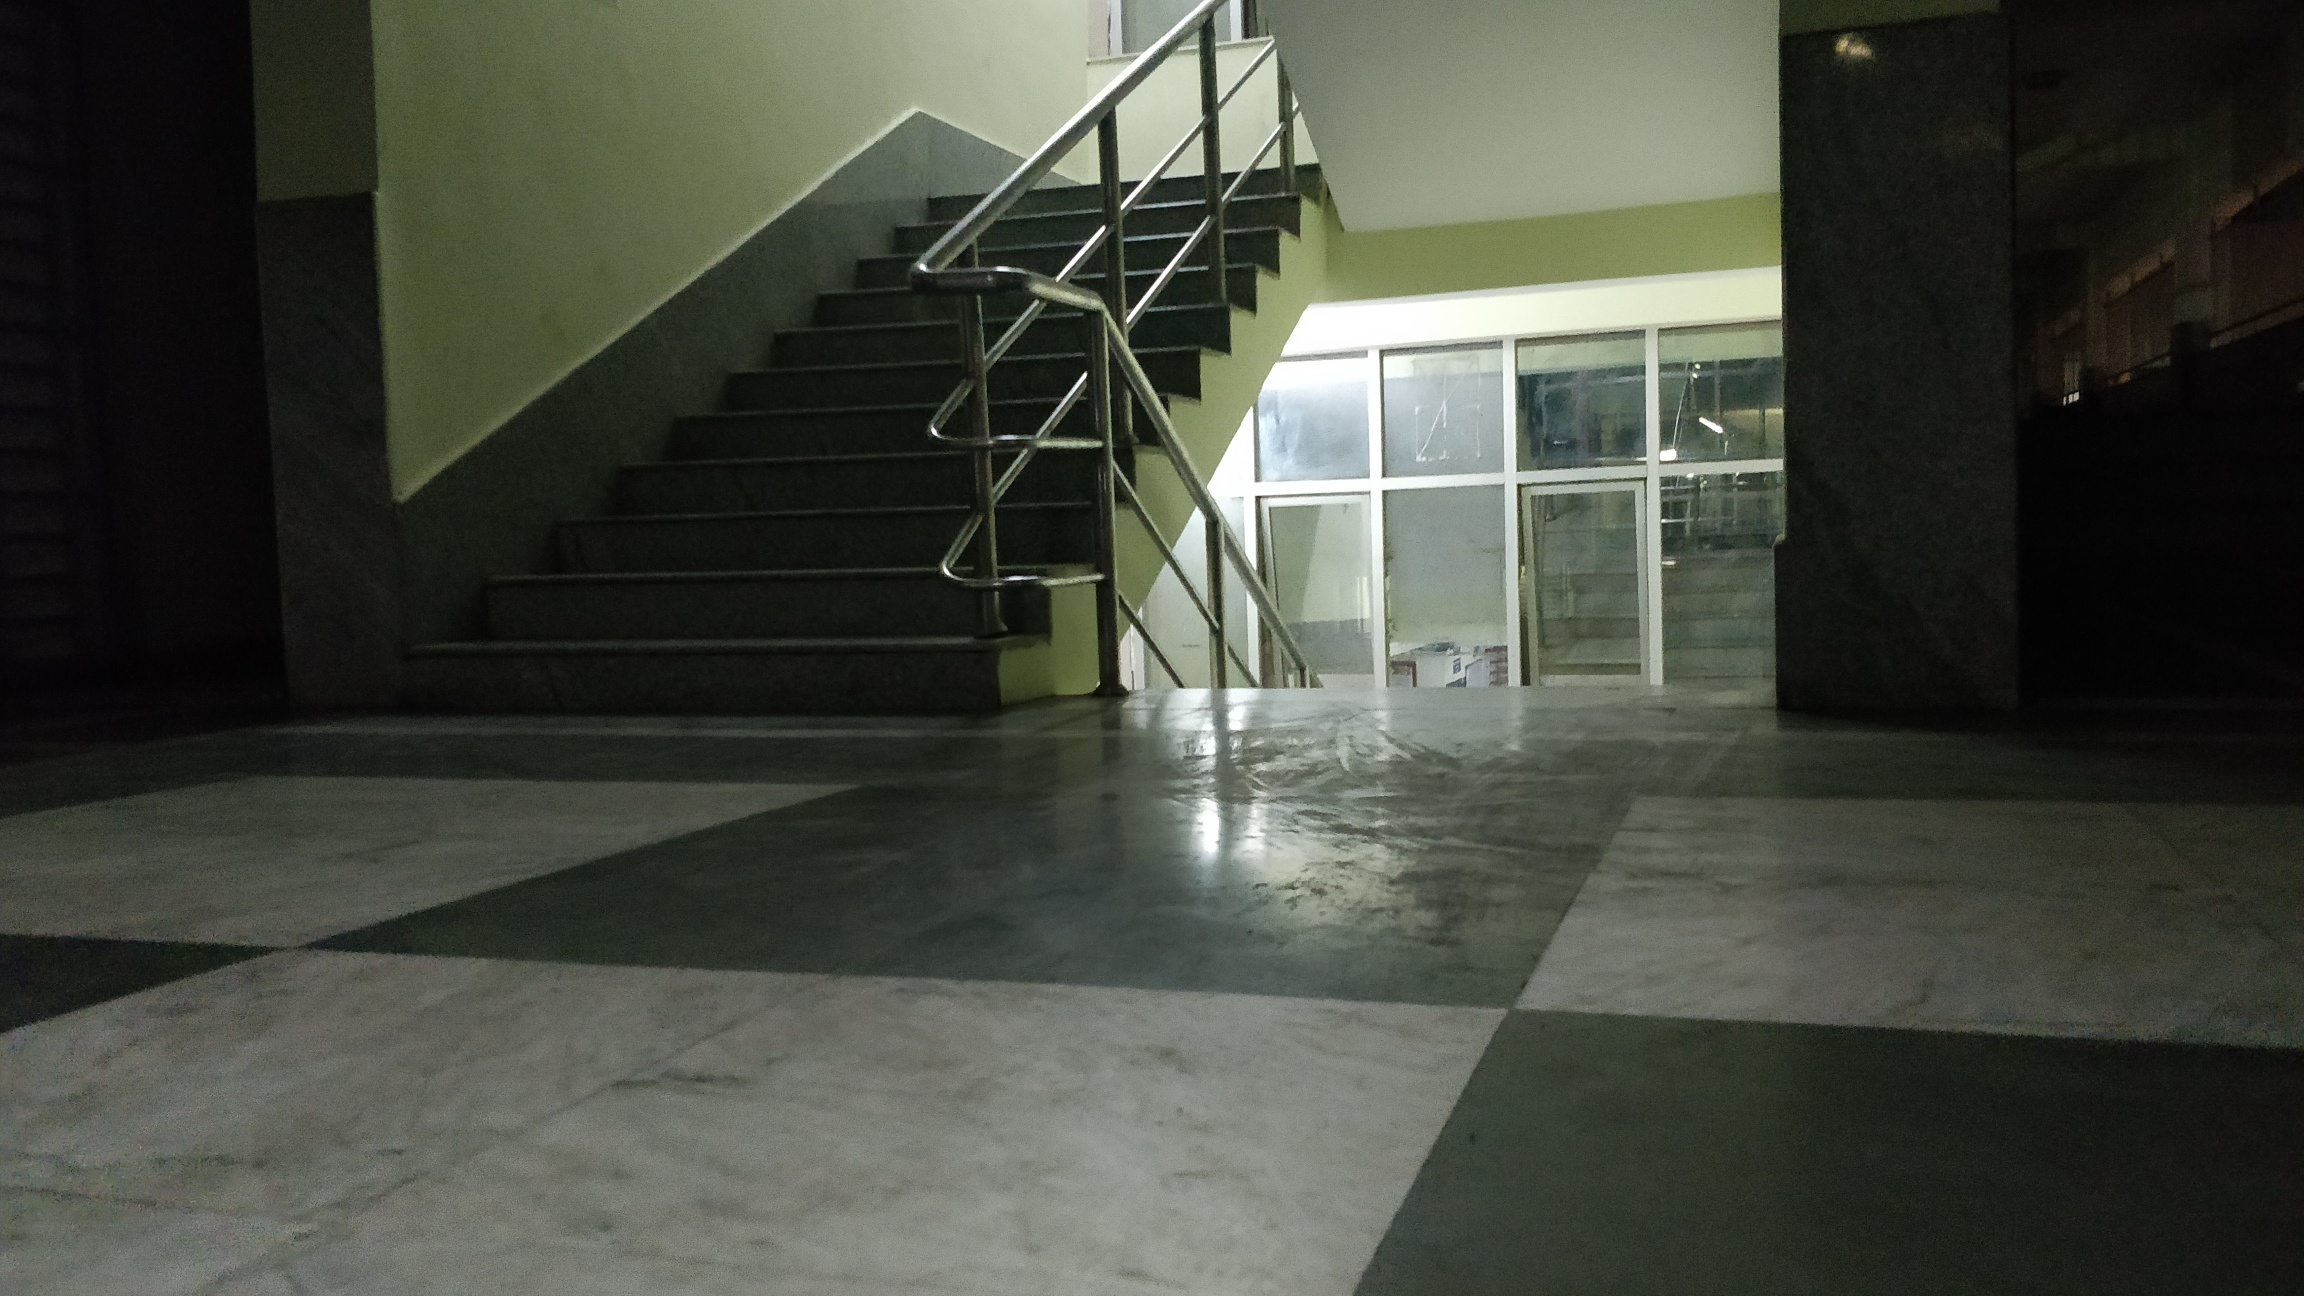stairs_up: (454, 160, 1331, 733)
